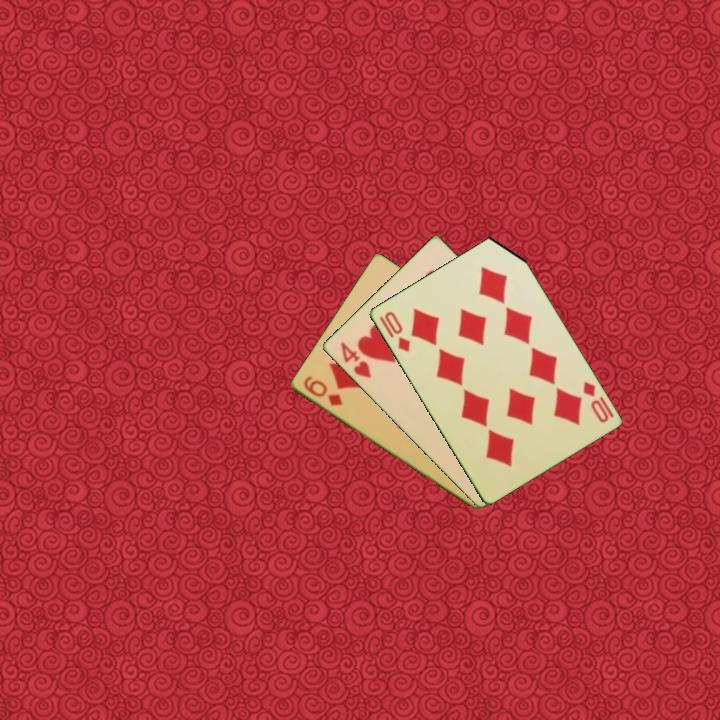10d: (579, 377, 616, 426), (380, 307, 413, 355)
4h: (336, 338, 374, 382)
6d: (299, 372, 345, 409)
